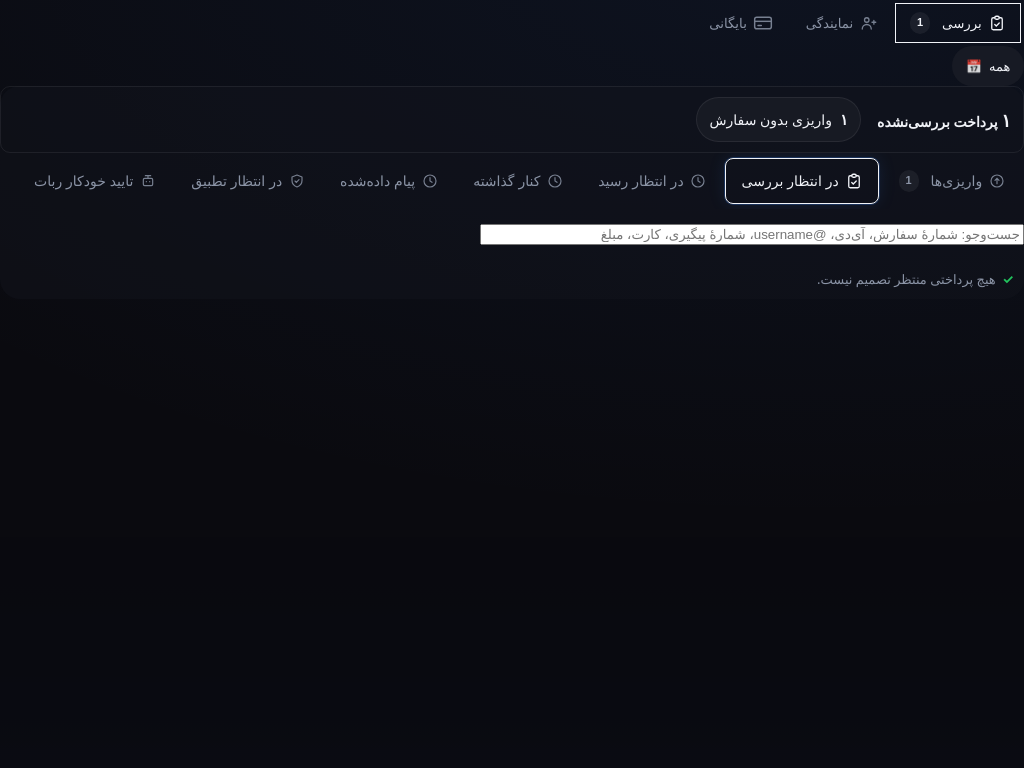
Scenario: a deposit that is a re-sent text › is rejected as a duplicate through the transaction, not tagged off the books
Click the tab "واریزی‌ها 1": coordinates (952, 181) x1=882 y1=158 x2=1021 y2=204
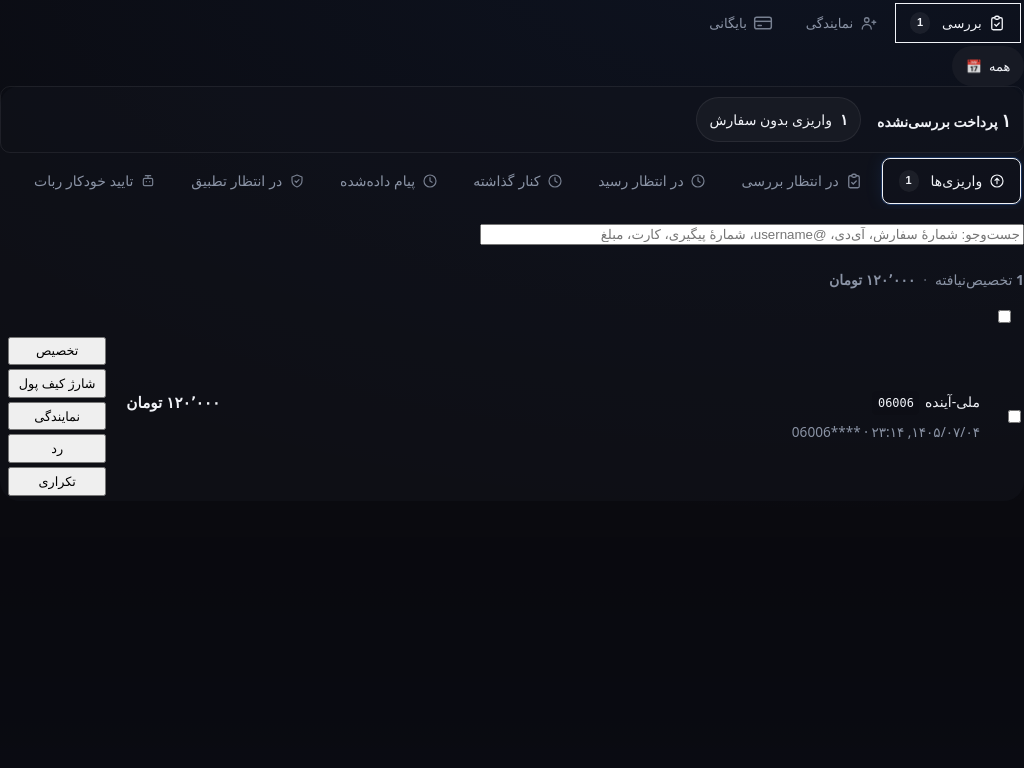
Click the button "تکراری": coordinates (57, 481) x1=8 y1=467 x2=106 y2=496
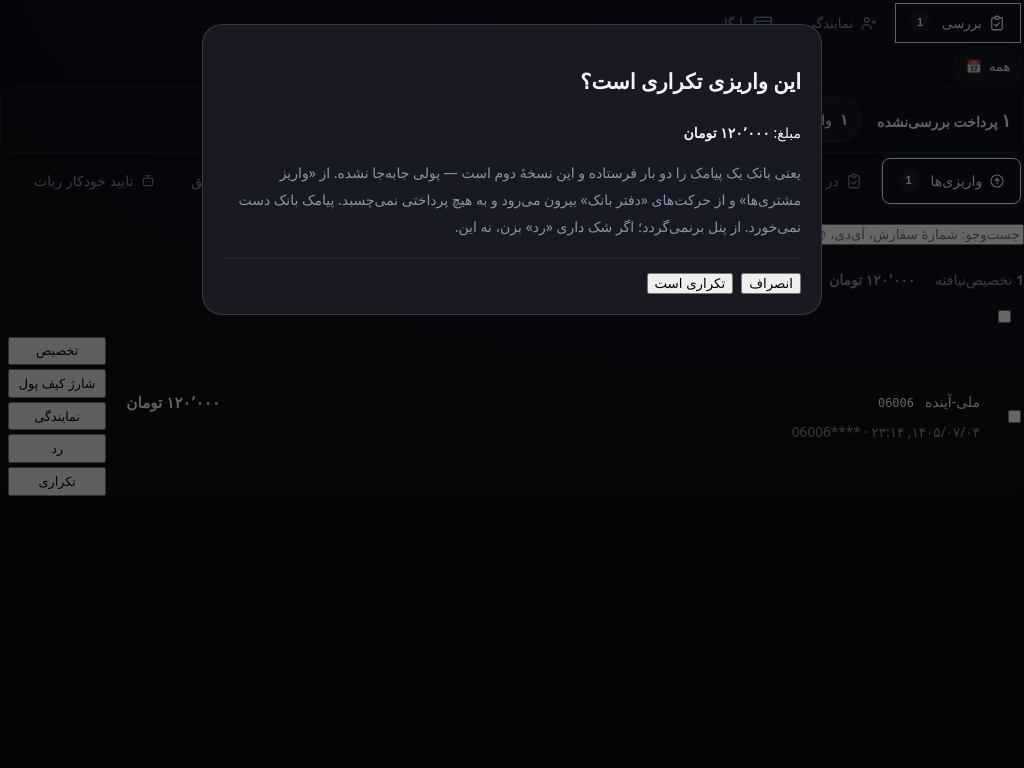
Expected: the heading "این واریزی تکراری است؟" is shown, x1=580 y1=67 x2=801 y2=95
Click the button "تکراری است": coordinates (690, 284) x1=646 y1=273 x2=733 y2=294
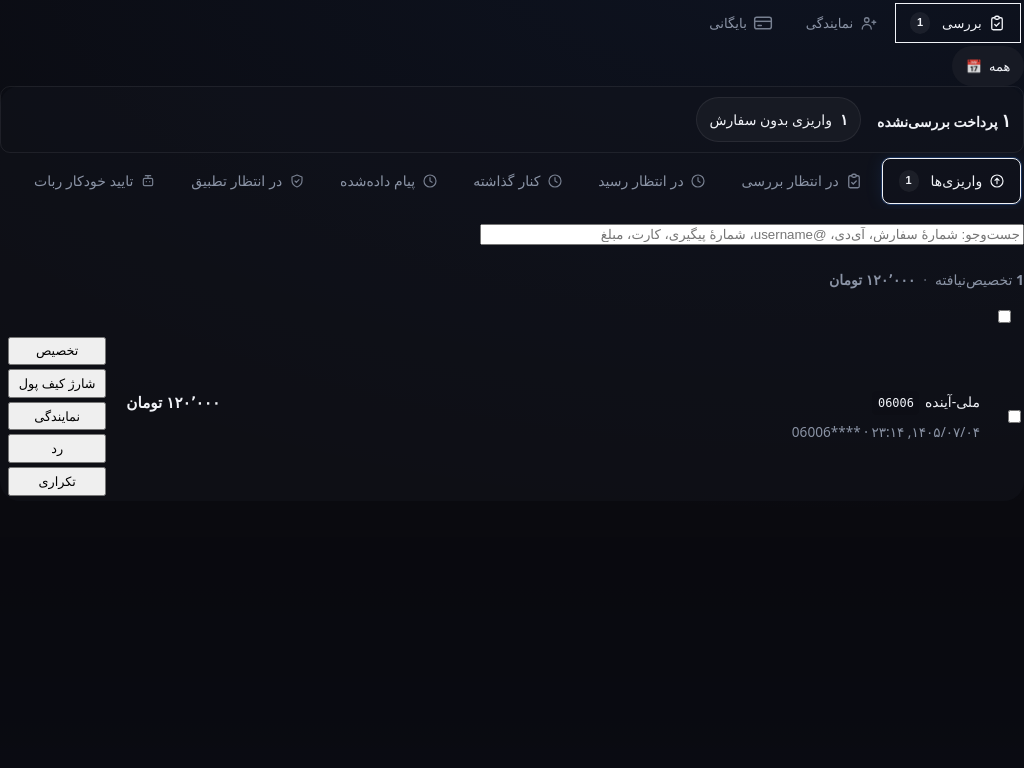
Expected: the heading "این واریزی تکراری است؟" is gone
